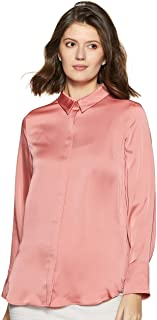shirt: (1, 81, 155, 309)
